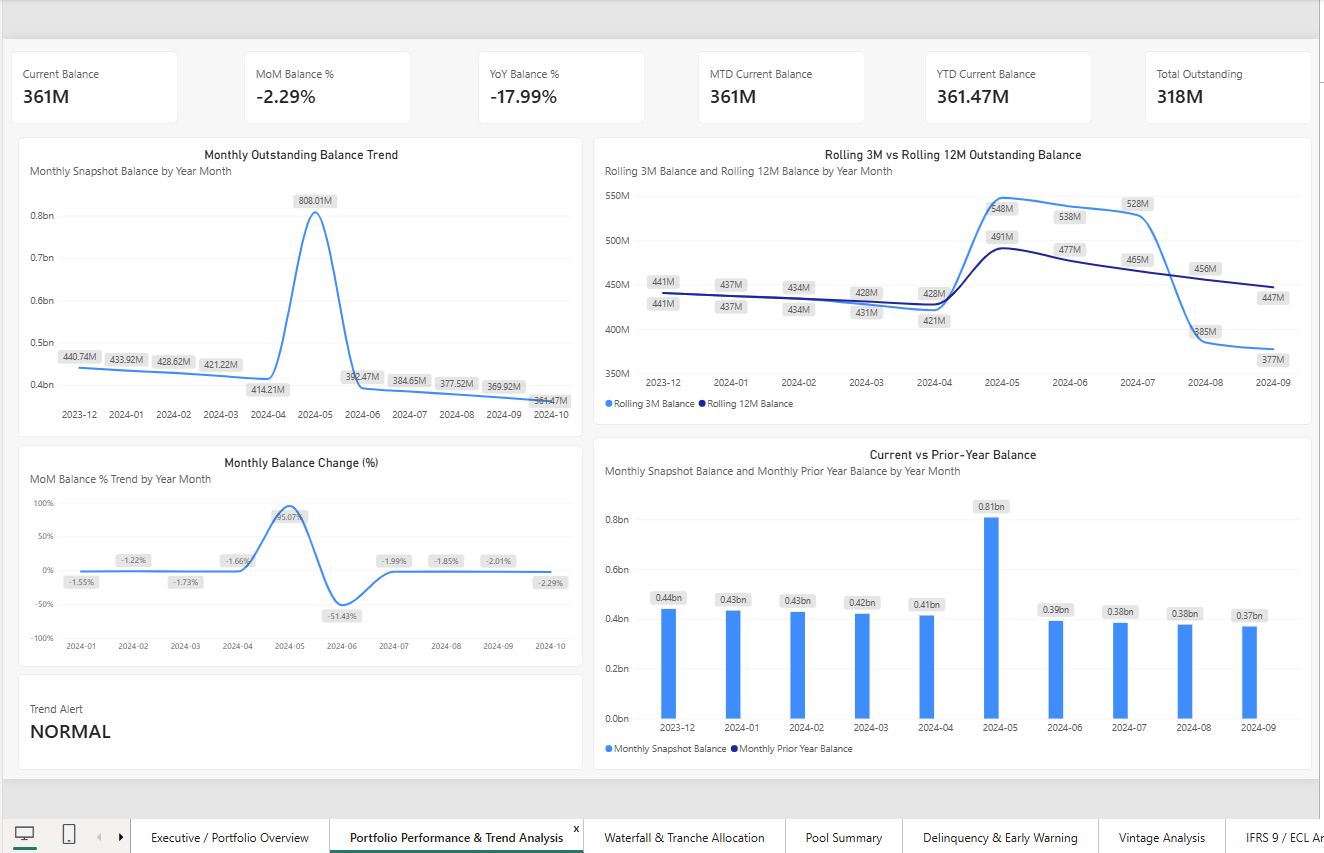

The dashboard page shown, as its layout file describes it:
{"tool":"powerbi","page":{"name":"Portfolio Performance & Trend Analysis","canvas":[1920,1080],"ordinal":1},"visuals":[{"type":"cardVisual","fields":{"Data":["_Measures.Current Balance"]},"box":[11.7,17.5,243.6,106.5],"z":0},{"type":"cardVisual","fields":{"Data":["Dimloan.MoM Balance %"]},"box":[351.6,17.5,243.6,106.5],"z":1000},{"type":"cardVisual","fields":{"Data":["Dimloan.YoY Balance %"]},"box":[693,17.5,243.6,106.5],"z":2000},{"type":"cardVisual","fields":{"Data":["_Measures.MTD Current Balance"]},"box":[1014,17.5,243.6,106.5],"z":3000},{"type":"cardVisual","fields":{"Data":["_Measures.YTD Current Balance"]},"box":[1345.2,17.5,243.6,106.5],"z":4000},{"type":"cardVisual","fields":{"Data":["Dimloan.Total Outstanding"]},"box":[1666.1,17.5,243.6,106.5],"z":5000},{"type":"lineChart","title":"Monthly Outstanding Balance Trend","fields":{"Category":["Dimdate.Year Month"],"Y":["_Measures.Monthly Snapshot Balance"]},"box":[21.9,143,824.3,437.7],"z":6000},{"type":"lineChart","title":"Monthly Balance Change (%)","fields":{"Category":["Dimdate.Year Month"],"Y":["_Measures.MoM Balance % Trend"]},"box":[21.9,592.3,824.3,323.9],"z":7000},{"type":"lineChart","title":"Rolling 3M vs Rolling 12M Outstanding Balance","fields":{"Category":["Dimdate.Year Month"],"Y":["Dimloan.Rolling 3M Balance","Dimloan.Rolling 12M Balance"]},"box":[860.8,143,1049,420.2],"z":8000},{"type":"cardVisual","fields":{"Data":["_Measures.Trend Alert"]},"box":[21.9,926.4,824.3,140.1],"z":9000},{"type":"clusteredColumnChart","title":"Current vs Prior-Year Balance","fields":{"Category":["Dimdate.Year Month"],"Y":["_Measures.Monthly Snapshot Balance","_Measures.Monthly Prior Year Balance"]},"box":[860.8,580.7,1049,485.8],"z":10000}]}

Visuals, with their boxes on the page's 1920x1080 design canvas (x1, y1, x2, y2). These are canvas units, not pixel positions in the 1324x853 screenshot, which may show the page scaled, cropped or inside an application window:
cardVisual - _Measures.Current Balance: pyautogui.locateOnScreen(12, 18, 255, 124)
cardVisual - Dimloan.MoM Balance %: pyautogui.locateOnScreen(352, 18, 595, 124)
cardVisual - Dimloan.YoY Balance %: pyautogui.locateOnScreen(693, 18, 937, 124)
cardVisual - _Measures.MTD Current Balance: pyautogui.locateOnScreen(1014, 18, 1258, 124)
cardVisual - _Measures.YTD Current Balance: pyautogui.locateOnScreen(1345, 18, 1589, 124)
cardVisual - Dimloan.Total Outstanding: pyautogui.locateOnScreen(1666, 18, 1910, 124)
"Monthly Outstanding Balance Trend" lineChart: pyautogui.locateOnScreen(22, 143, 846, 581)
"Monthly Balance Change (%)" lineChart: pyautogui.locateOnScreen(22, 592, 846, 916)
"Rolling 3M vs Rolling 12M Outstanding Balance" lineChart: pyautogui.locateOnScreen(861, 143, 1910, 563)
cardVisual - _Measures.Trend Alert: pyautogui.locateOnScreen(22, 926, 846, 1066)
"Current vs Prior-Year Balance" clusteredColumnChart: pyautogui.locateOnScreen(861, 581, 1910, 1066)
